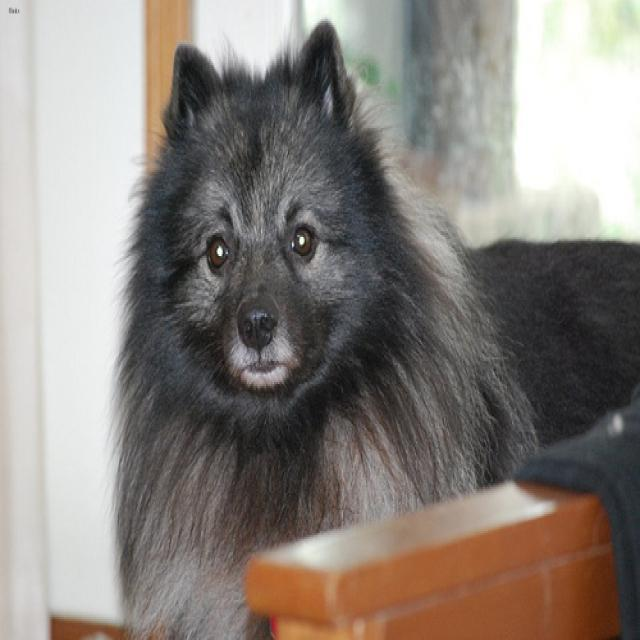dog-keeshond: (102, 6, 637, 636)
